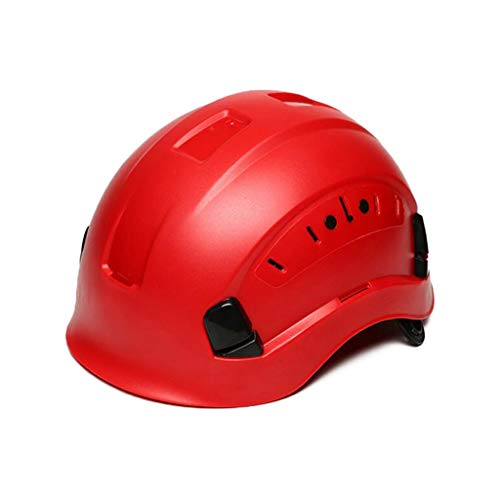elmetto: (30, 69, 466, 427)
